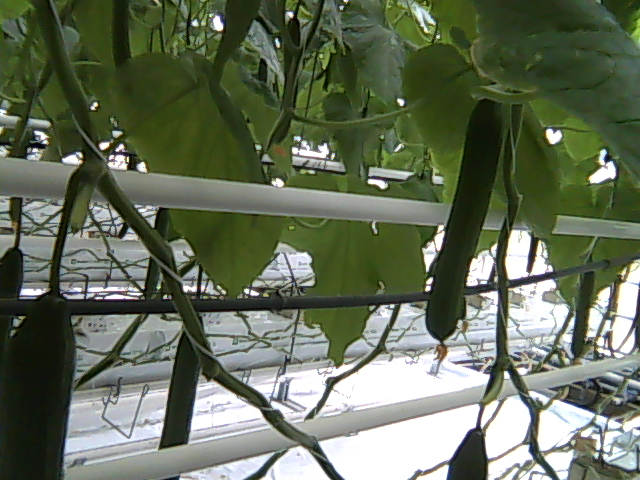concombre: (422, 93, 512, 379), (1, 282, 79, 480), (444, 425, 492, 480)
